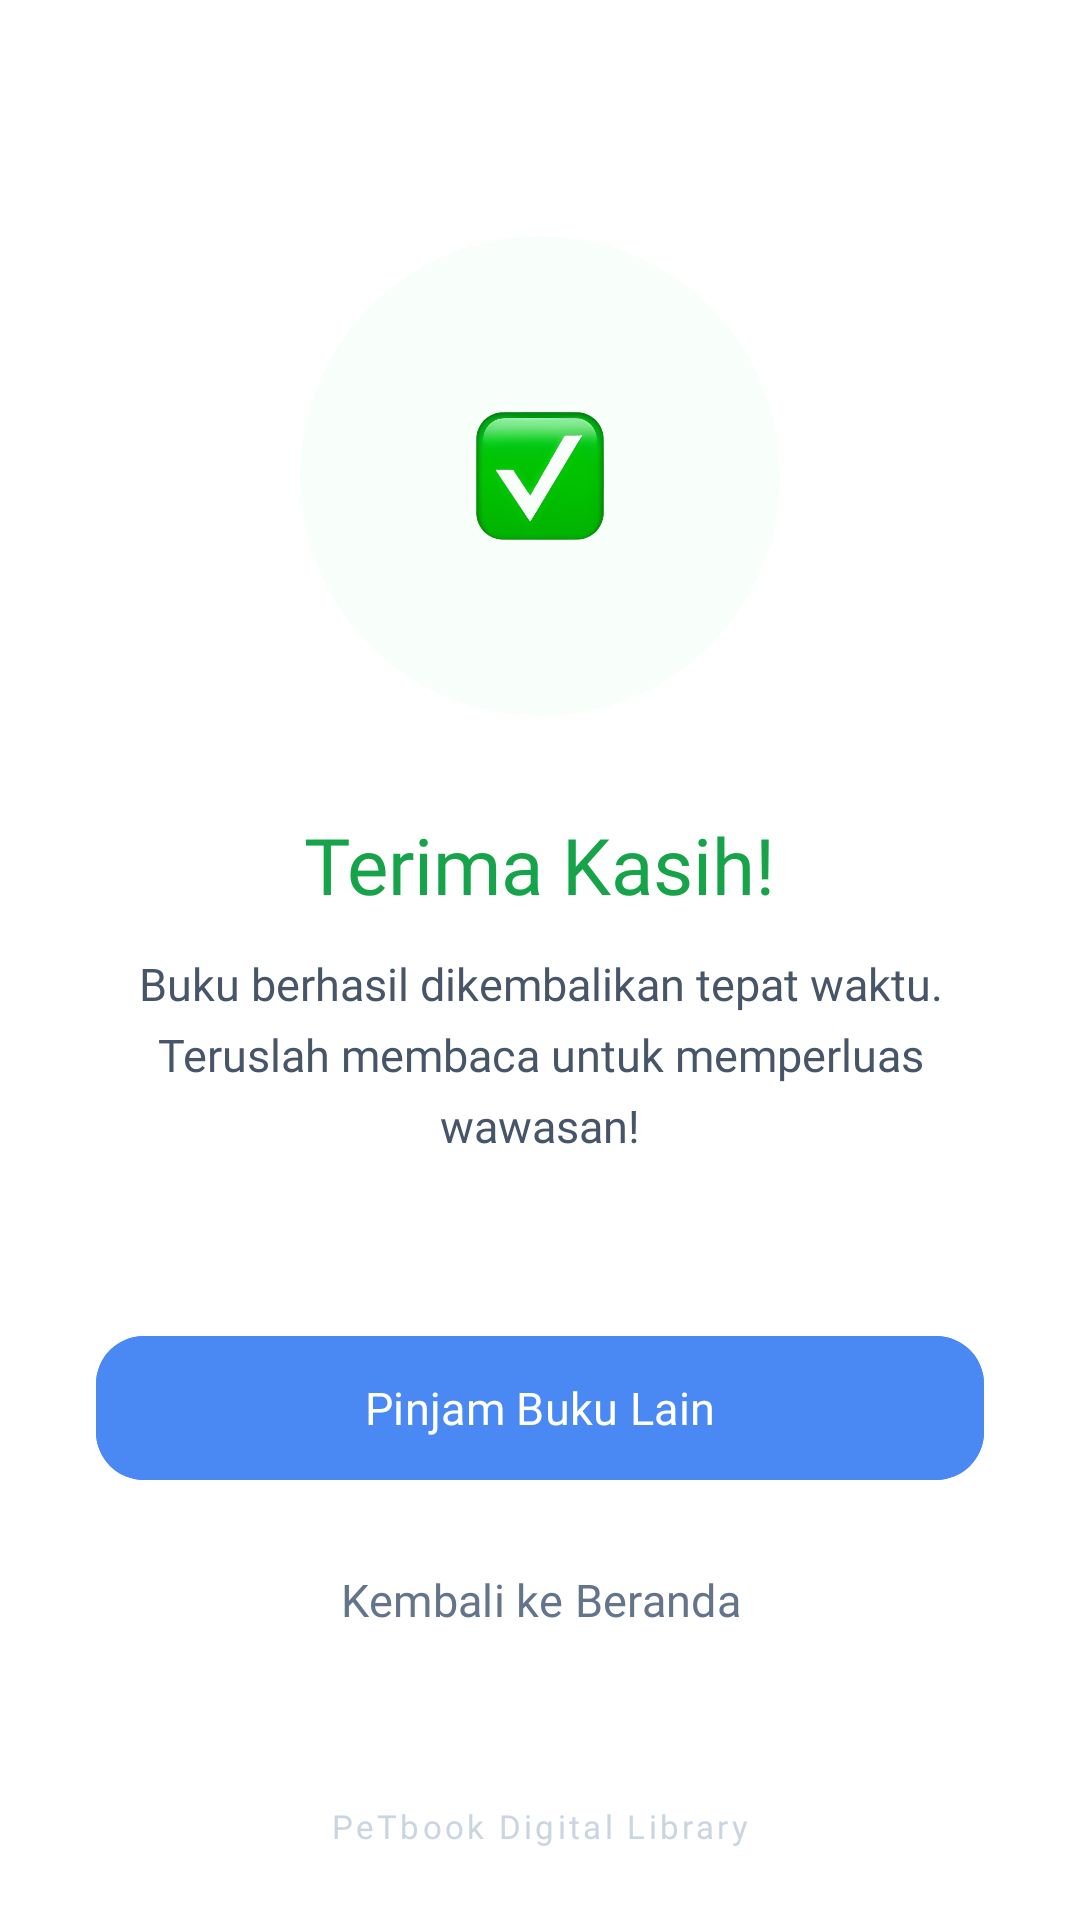

Icons on this 1080x1920 Android screen, each with its box as (x1, y1, x2, y2):
centang: (476, 412, 604, 540)
